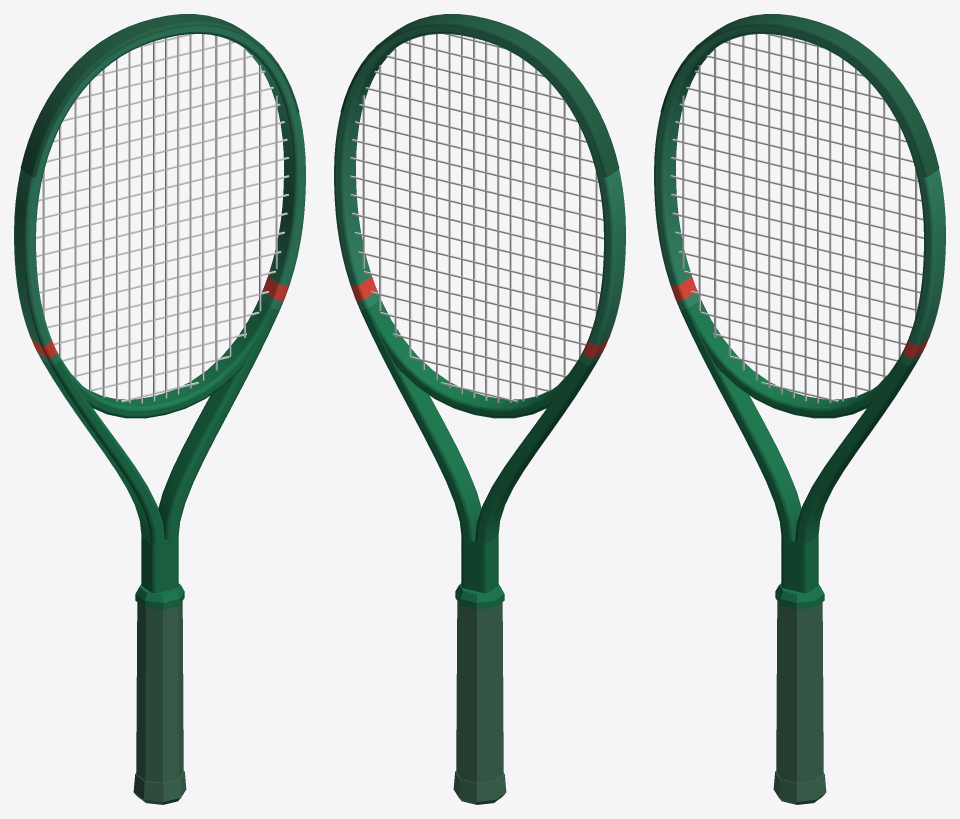
File: wilson-blade-pro-98-18x20-v10-2026.glb
The picture shows the model from 3 angles, left to right: view 1: azimuth 30°, elevation 25°; view 2: azimuth 150°, elevation 25°; view 3: azimuth 330°, elevation 25°; orthographic projection.
Visible parts, largest first — view 1: frame, strings_mains, strings_crosses, grip, bumper, butt_cap, collar; view 2: frame, strings_mains, strings_crosses, grip, bumper, butt_cap, collar; view 3: frame, strings_mains, strings_crosses, grip, bumper, butt_cap, collar.
Part boxes in pixels (box(x1,y1,x2,y2)): frame: box(14, 26, 305, 593); strings_mains: box(42, 34, 277, 403); strings_crosses: box(36, 34, 289, 402); grip: box(136, 601, 183, 782); bumper: box(20, 14, 299, 177); butt_cap: box(133, 771, 186, 804); collar: box(135, 583, 184, 609); frame: box(334, 26, 625, 593); strings_mains: box(362, 34, 597, 402); strings_crosses: box(350, 34, 603, 402); grip: box(456, 601, 503, 782); bumper: box(340, 14, 619, 177); butt_cap: box(453, 771, 506, 804); collar: box(455, 583, 504, 609); frame: box(654, 26, 945, 593); strings_mains: box(682, 34, 917, 403); strings_crosses: box(670, 34, 923, 402); grip: box(776, 601, 823, 782); bumper: box(660, 14, 939, 177); butt_cap: box(773, 771, 826, 804); collar: box(775, 583, 824, 609).
Bounding box in the file's own units: 0.2616 × 0.6861 × 0.0396.
